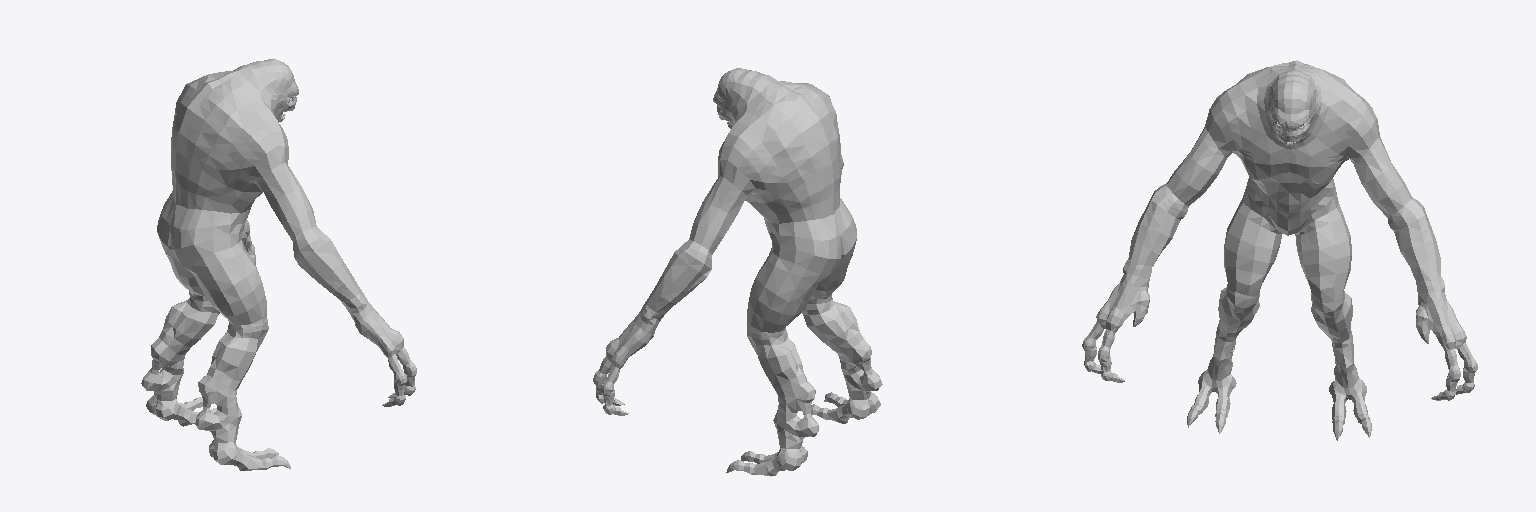
File: librarian1.obj
3 views of the same model, side by side, from view 1: azimuth 30°, elevation 25°; view 2: azimuth 150°, elevation 25°; view 3: azimuth 270°, elevation 25° (orthographic).
Parts seen in each view (by area): view 1: Librarian; view 2: Librarian; view 3: Librarian.
Part boxes in pixels (x1,y1,x2,y2): Librarian: (141,59,416,470); Librarian: (593,68,882,476); Librarian: (1082,60,1477,440).
Bounding box in the file's own units: 9.84 × 20.21 × 19.54.